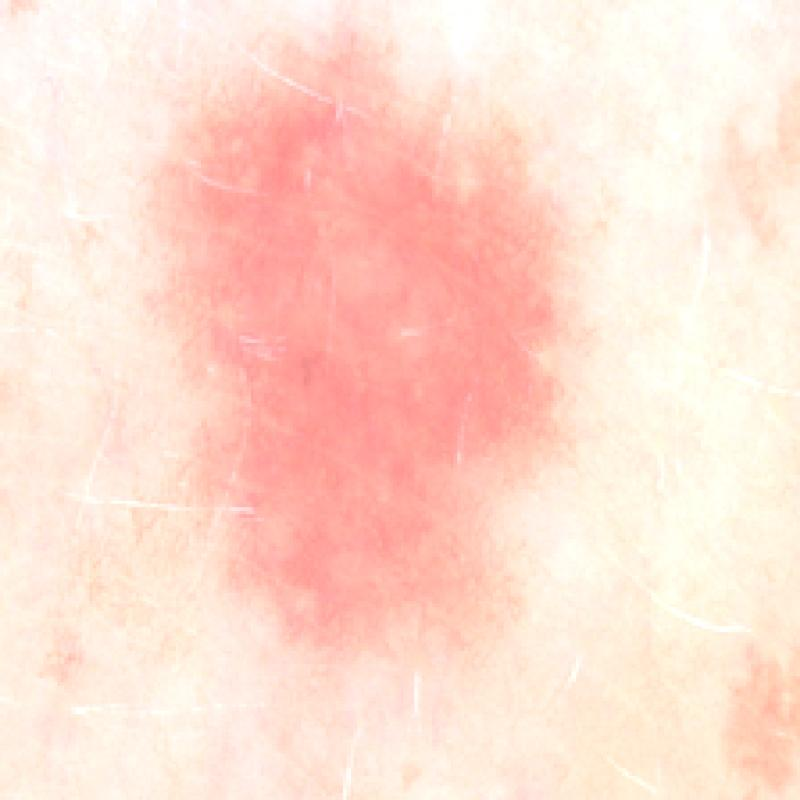benign: (148, 23, 591, 677)
